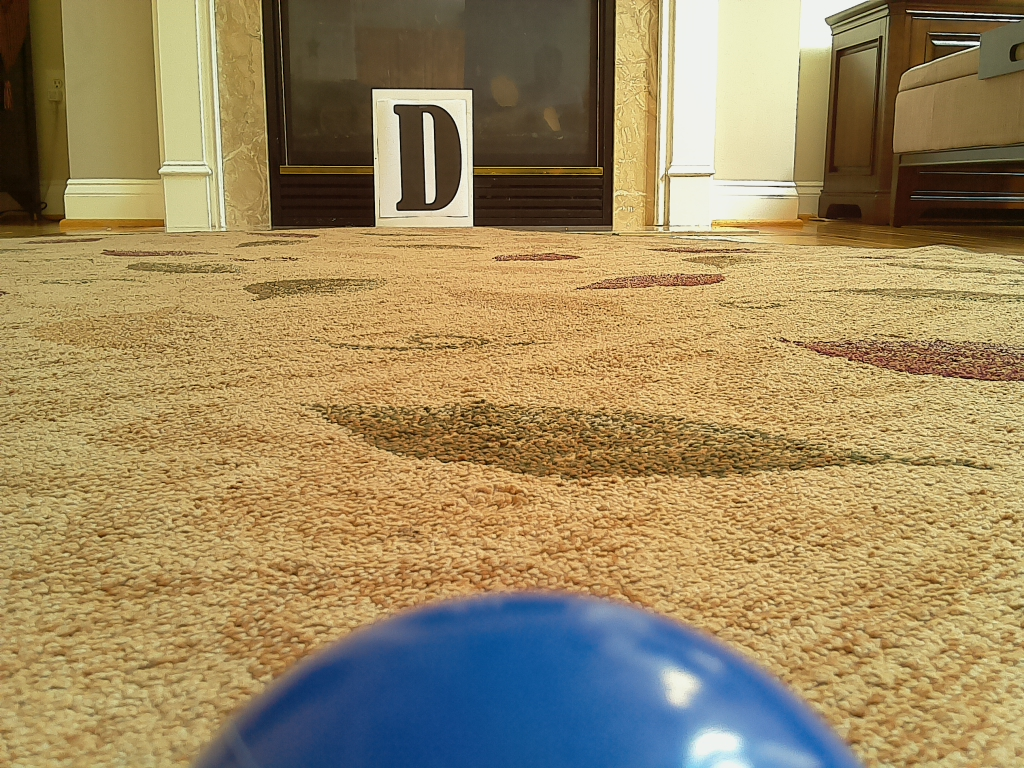letter: (396, 105, 462, 212)
